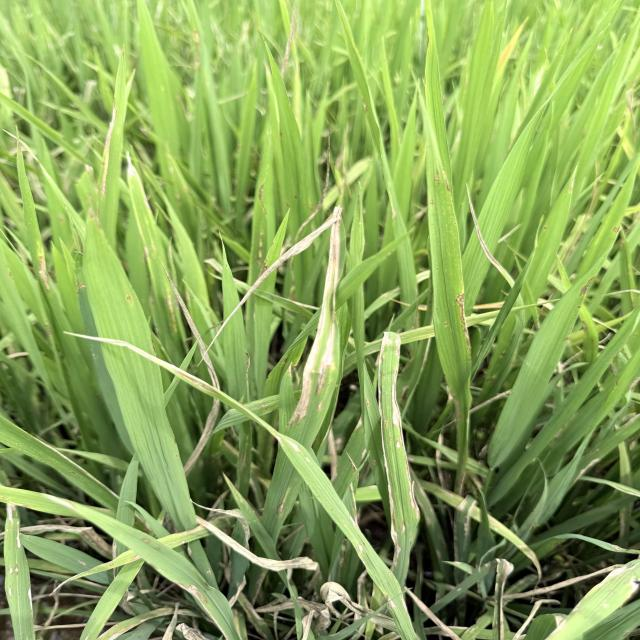Chay bia la: (287, 222, 339, 426)
